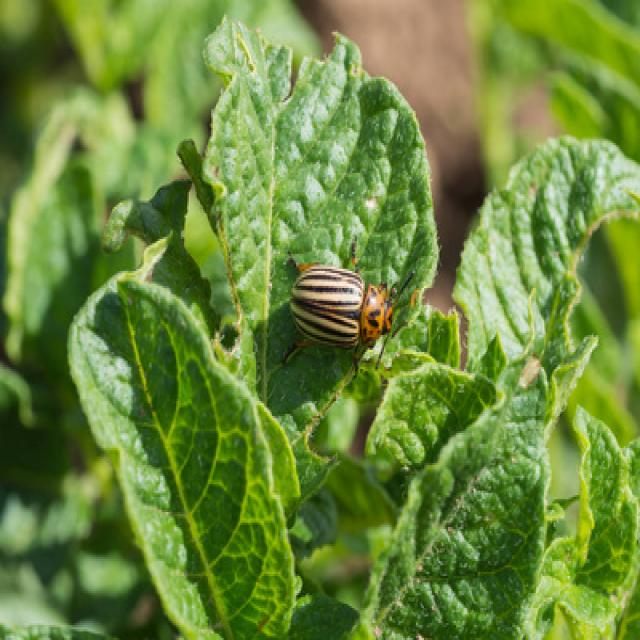ShuCaiHuaBanChong-Grown-: (278, 255, 401, 368)
